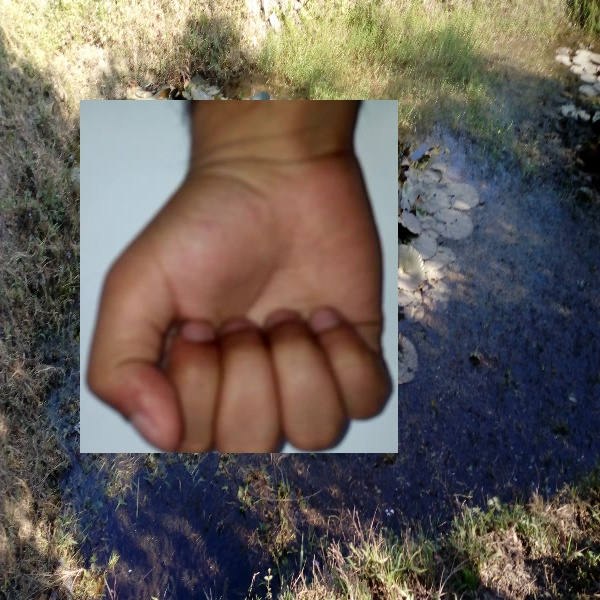A: (80, 100, 398, 453)
